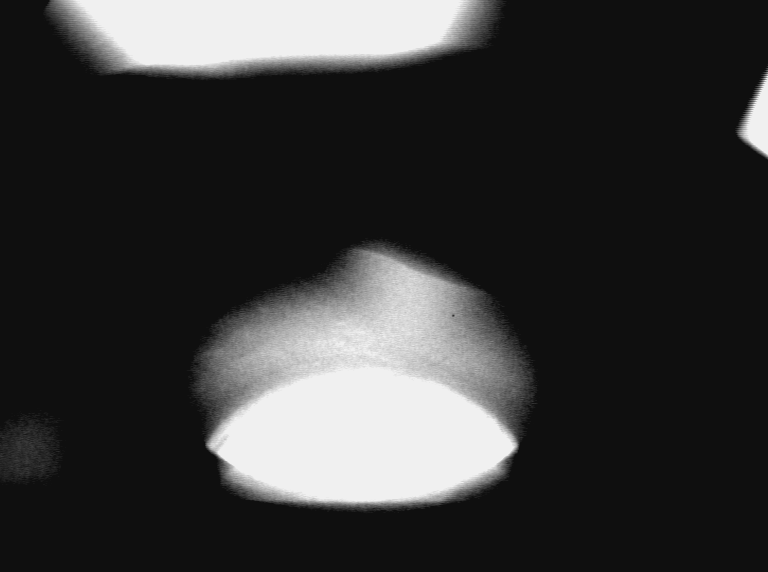defect: (349, 229, 500, 306)
